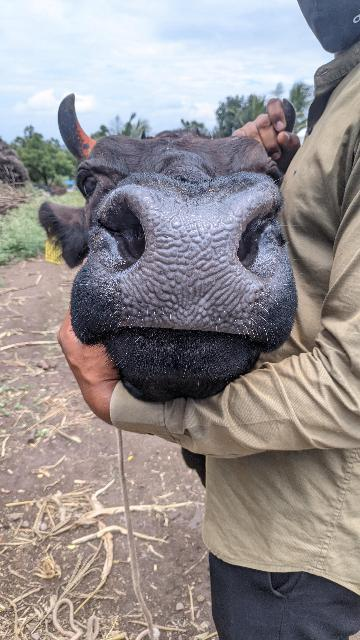Muzzle: (108, 190, 272, 340)
